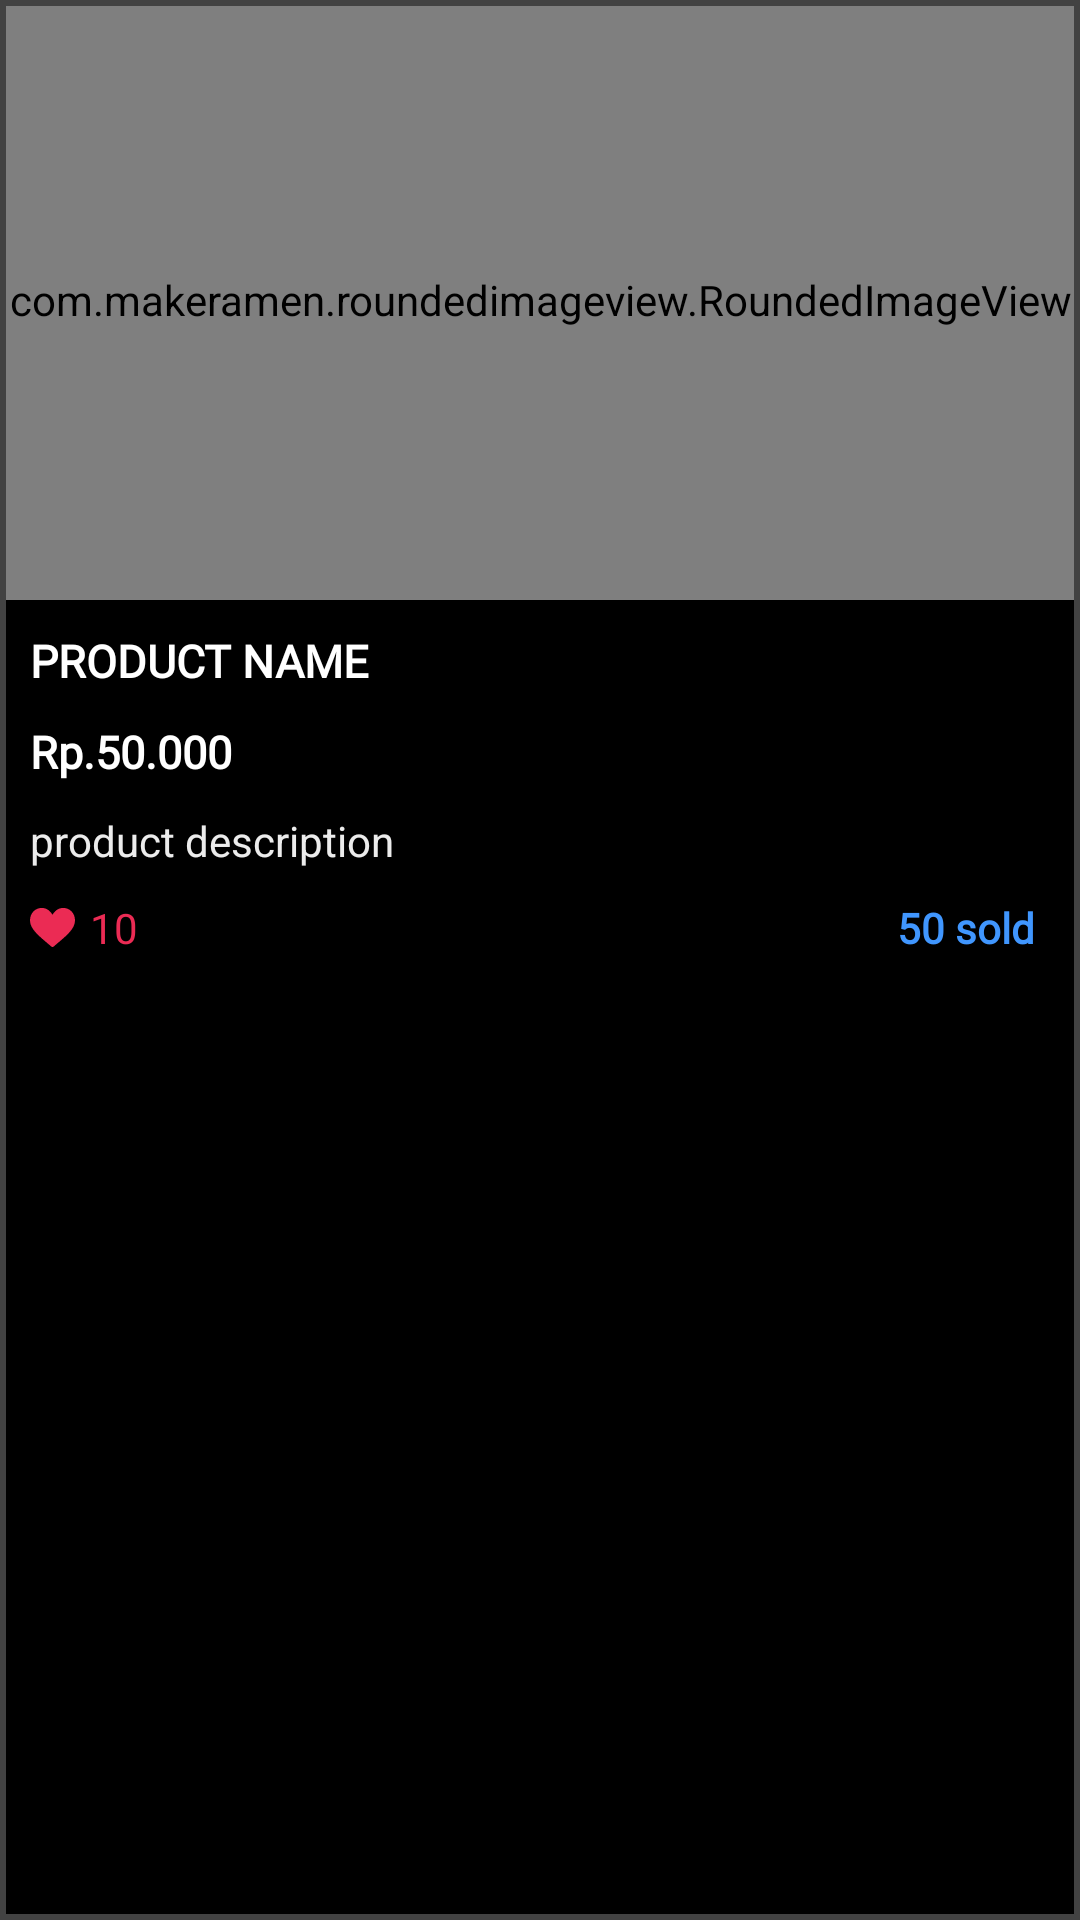

Icons on this 1080x1920 Android screen, each with its box as rect(x1, y1, x2, y2):
heart: rect(30, 908, 75, 947)
